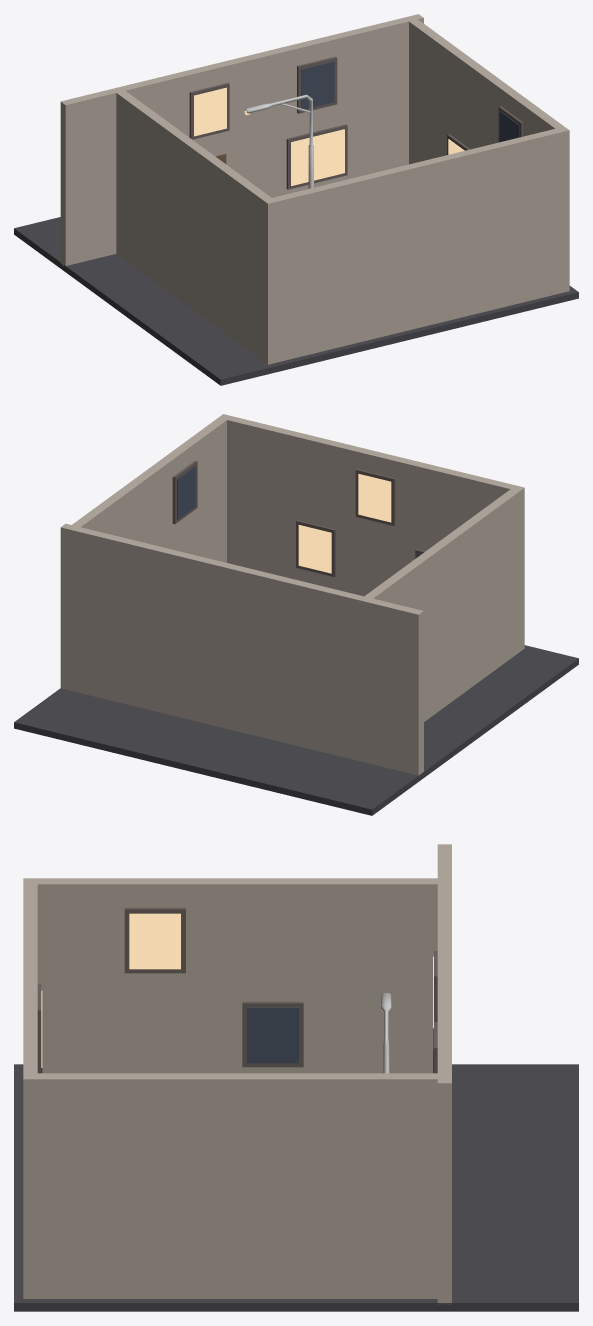
Rendered from source.gltf.
3 renders of one model, top to bottom at view 1: azimuth 30°, elevation 25°; view 2: azimuth 150°, elevation 25°; view 3: azimuth 270°, elevation 25°, orthographic. The views are drawn at different scales.
Visible parts, largest first — view 1: object 1, object 3, Group; view 2: object 1, object 3; view 3: object 1, object 3.
Part boxes in pixels (x1,y1,x2,y2): object 1: (14,14,578,385); object 3: (189,56,523,189); Group: (244,94,313,188); object 1: (14,414,578,815); object 3: (172,460,425,576); object 1: (14,844,578,1311); object 3: (37,907,437,1073).
Size of the model in its own units: 12 by 5.35 by 12.
